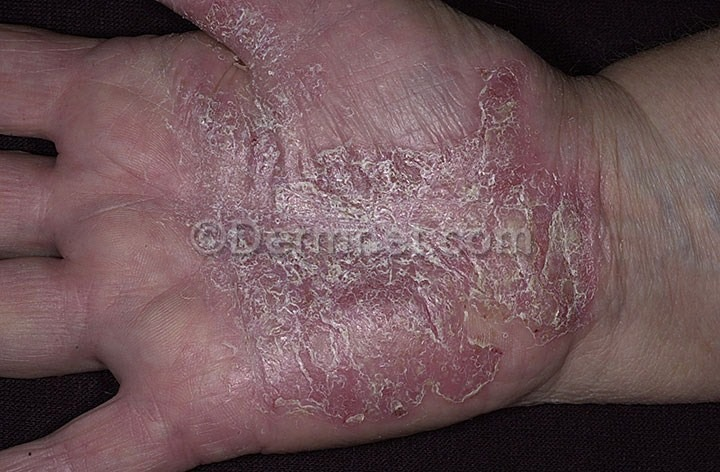Psoriasis: (166, 4, 615, 413)
